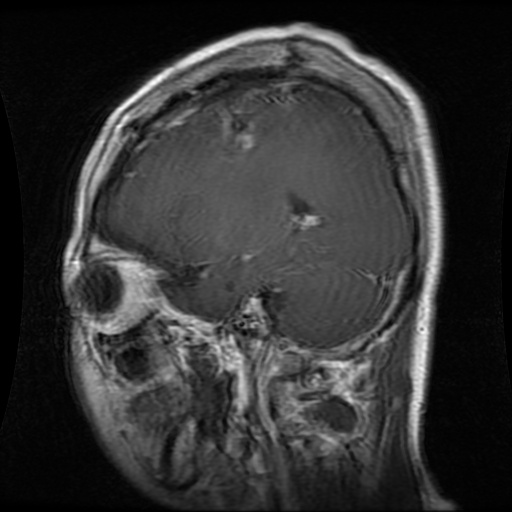glioma: (215, 104, 257, 149)
